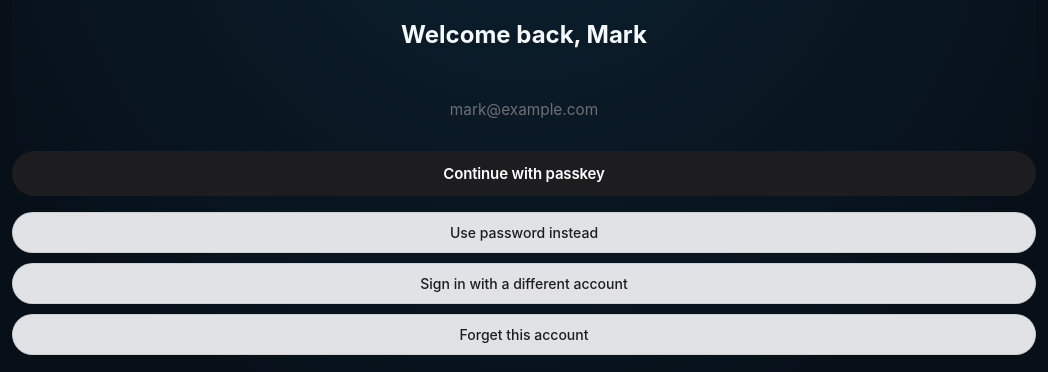
Test case: LoginView remembered account › prefills remembered identity when password login is selected
Step 1. Click the button "Use password instead" → click(524, 232), box x1=12 y1=212 x2=1036 y2=252
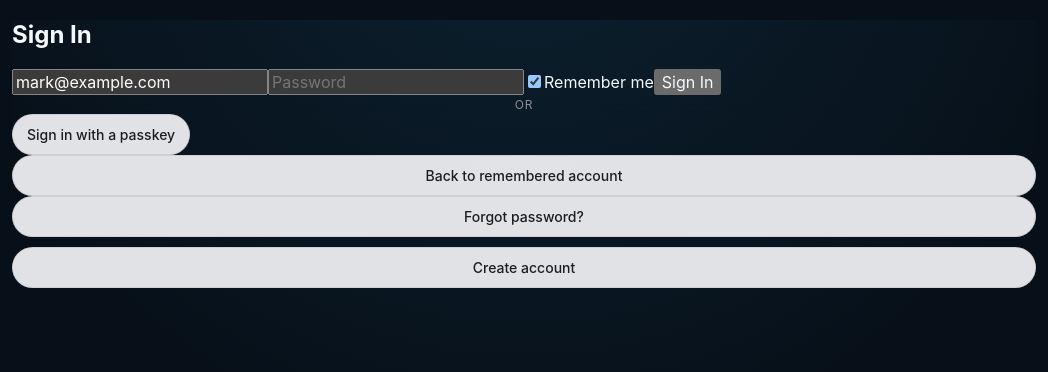
Check: the field with placeholder "Email or username" holds "mark@example.com", box x1=12 y1=69 x2=268 y2=95
Check: the checkbox labelled "Remember me" is checked, box x1=528 y1=75 x2=541 y2=88
